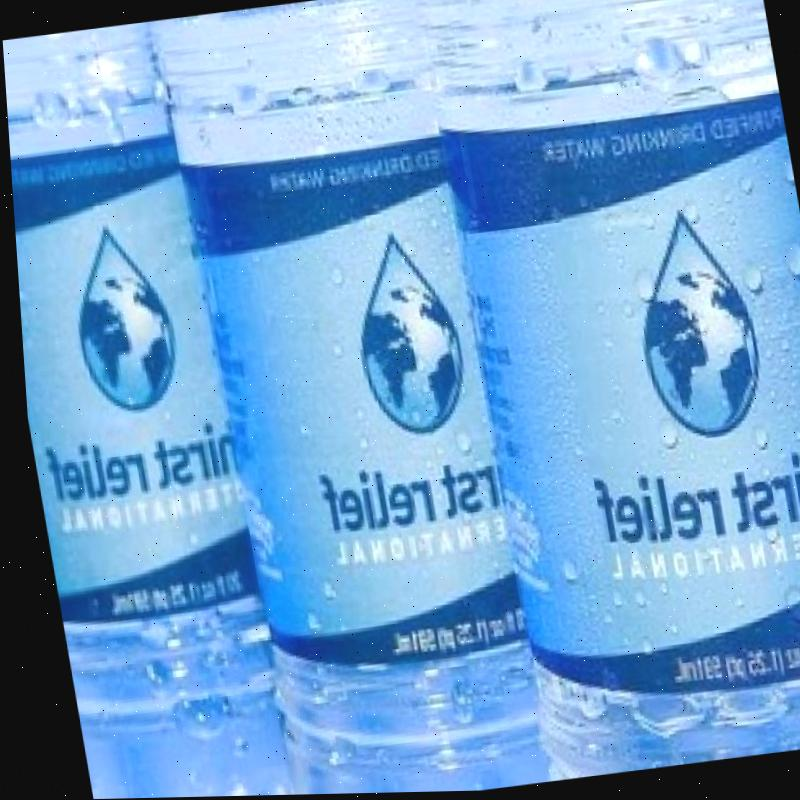botella: (151, 0, 541, 797), (414, 0, 800, 785), (1, 20, 276, 800)
